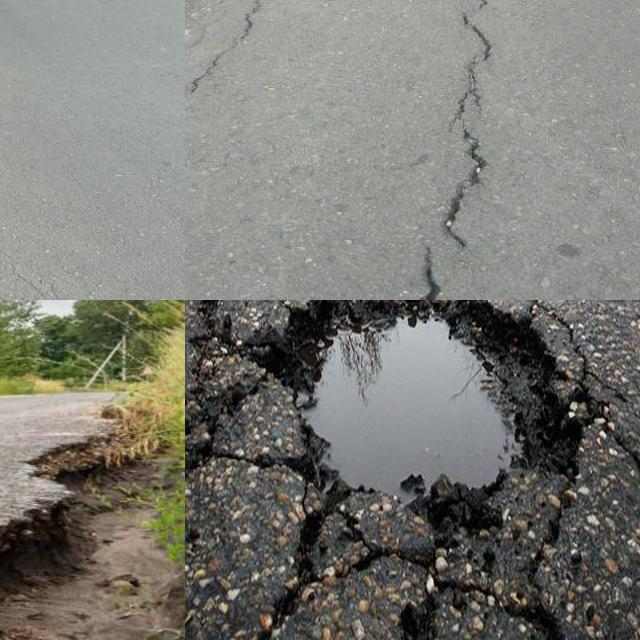Lubang: (288, 300, 577, 542)
Memanjang: (401, 0, 508, 300), (185, 0, 272, 119)
Pinggir: (0, 423, 145, 640)
